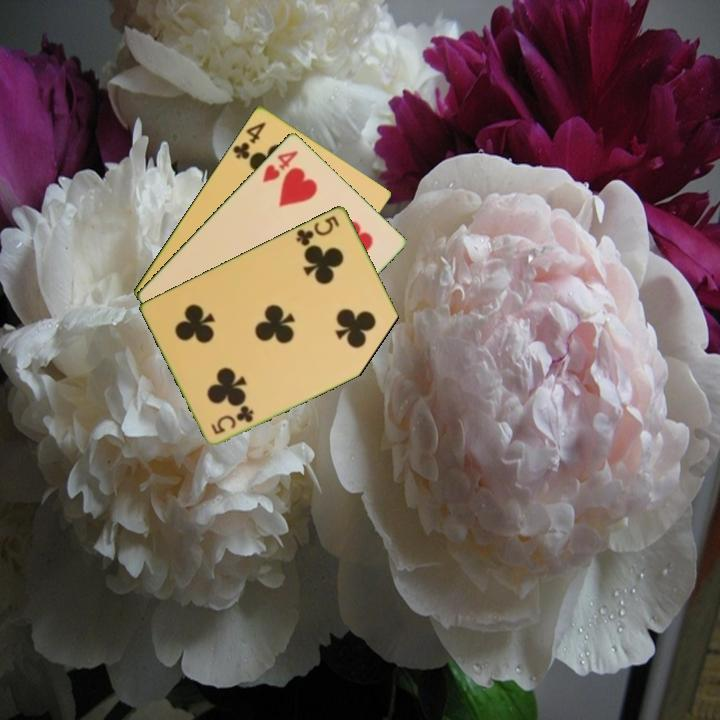4c: (229, 118, 269, 164)
4h: (259, 147, 301, 185)
5c: (293, 212, 343, 249), (207, 402, 257, 437)
